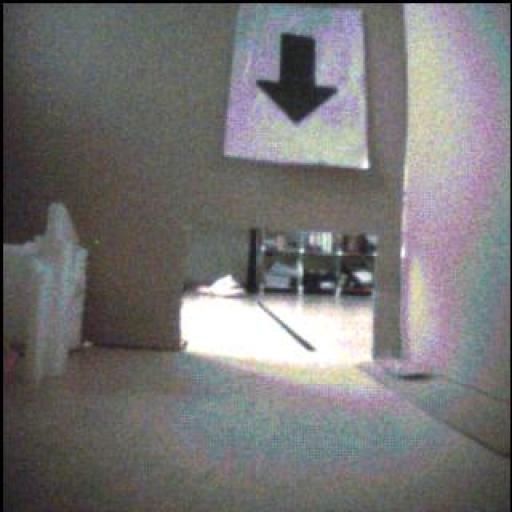arrow: (257, 35, 339, 124)
